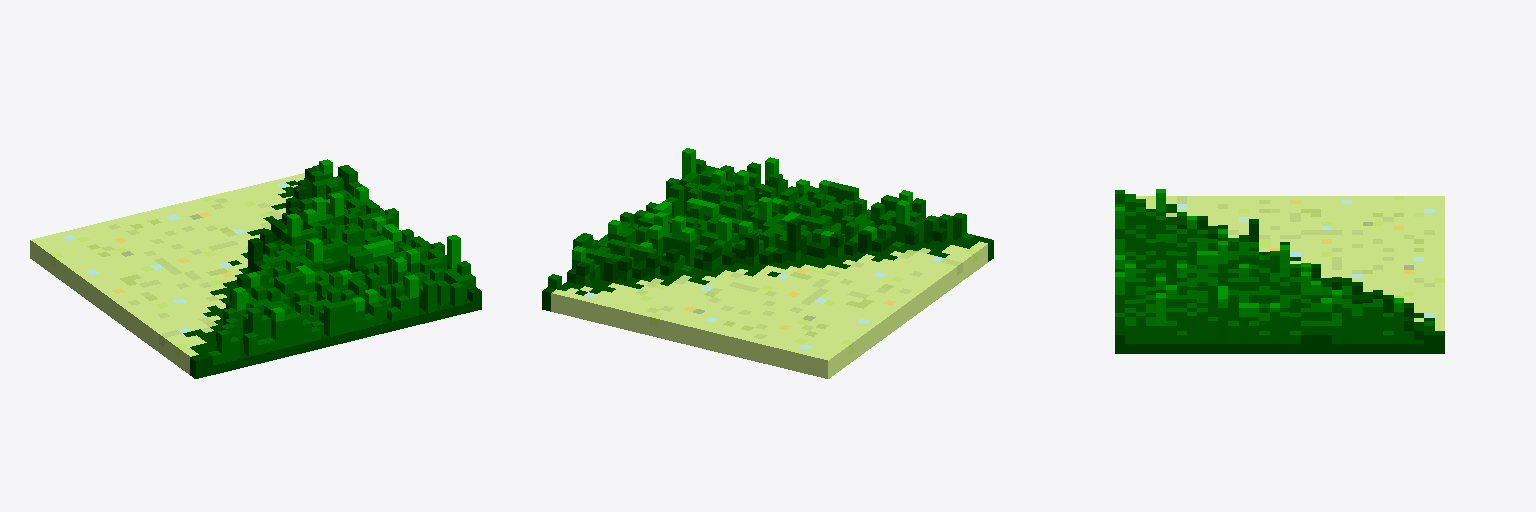
3 renders of one model, left to right at view 1: azimuth 30°, elevation 25°; view 2: azimuth 150°, elevation 25°; view 3: azimuth 270°, elevation 25°, orthographic.
Parts seen in each view (by area): view 1: grass-sand; view 2: grass-sand; view 3: grass-sand.
Boxes of the visible parts, <box> form: grass-sand: <box>30,159,481,378</box>; grass-sand: <box>542,148,993,378</box>; grass-sand: <box>1115,189,1444,353</box>.
Size of the model in its own units: 32 by 6 by 32.
Materials: 1 (1 with a texture image).